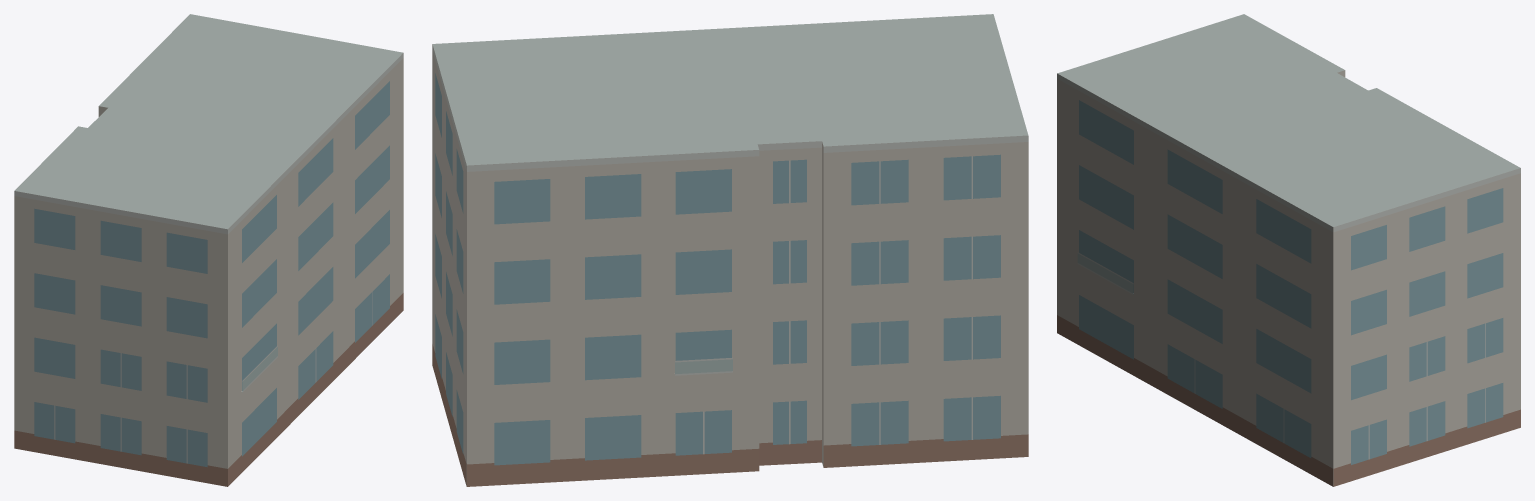
The model's file is survey-upis-32631155.glb.
3 renders of one model, left to right at view 1: azimuth 30°, elevation 25°; view 2: azimuth 150°, elevation 25°; view 3: azimuth 270°, elevation 25°, orthographic. The views are drawn at different scales.
Visible parts, largest first — view 1: survey-upis-32631155.tmp; view 2: survey-upis-32631155.tmp; view 3: survey-upis-32631155.tmp.
Boxes of the visible parts, <box> form: survey-upis-32631155.tmp: <box>14,14,403,486</box>; survey-upis-32631155.tmp: <box>432,14,1028,486</box>; survey-upis-32631155.tmp: <box>1057,14,1520,486</box>.
Size of the model in its own units: 21.49 by 12.2 by 19.75.
